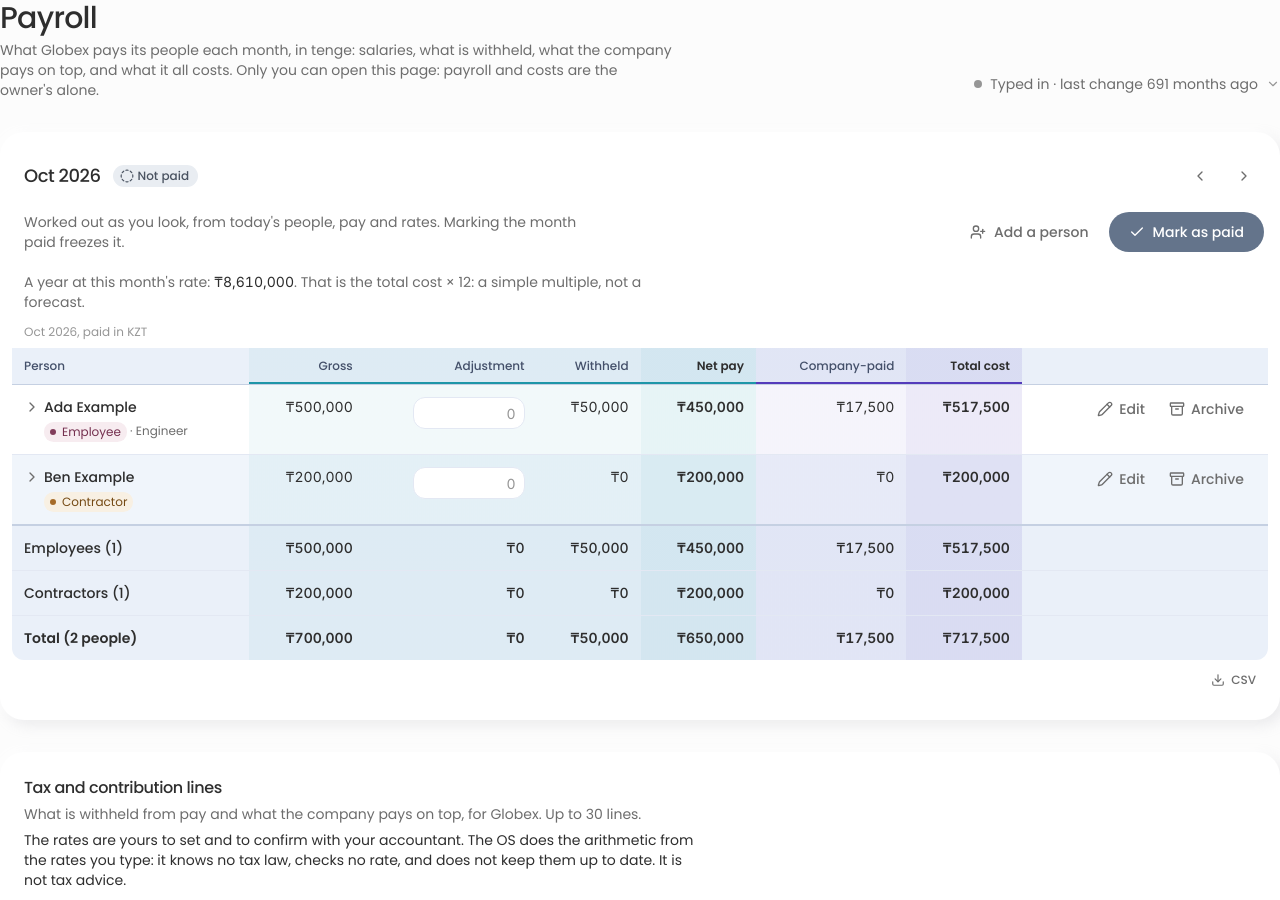
it: PayrollView: one table, live until paid › Mark as paid asks first, says what freezing means, and sends the date
The width and height of the screenshot is (1280, 900).
Click the button "Mark as paid" at point(1186, 232), box [1109,212,1264,252]
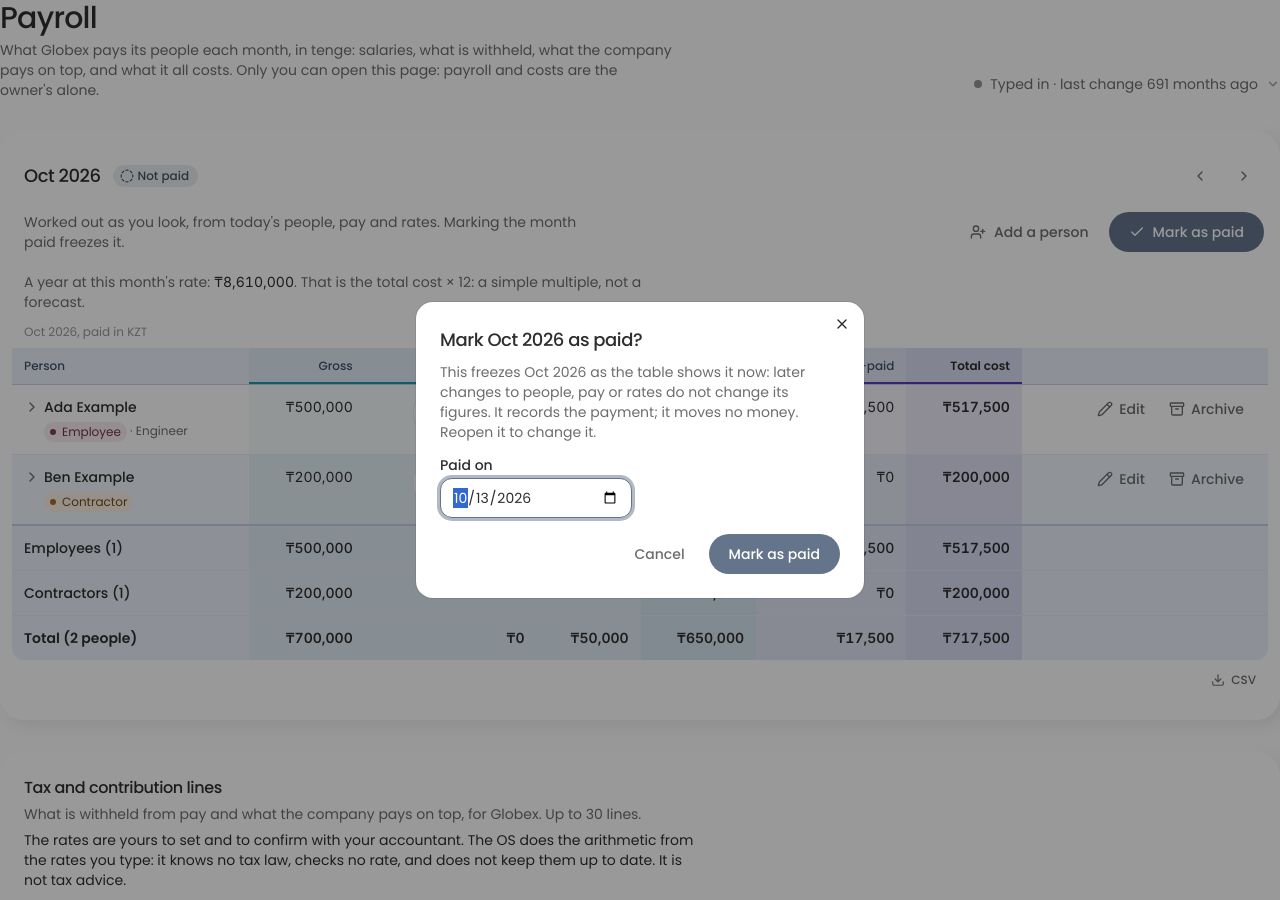
Now the text "freezes Oct 2026" is shown, box [440,362,840,442]
Now the text "later changes to people, pay or rates do not change" is shown, box [440,362,805,442]
Click the button "Cancel" at point(660, 554), box [618,534,701,574]
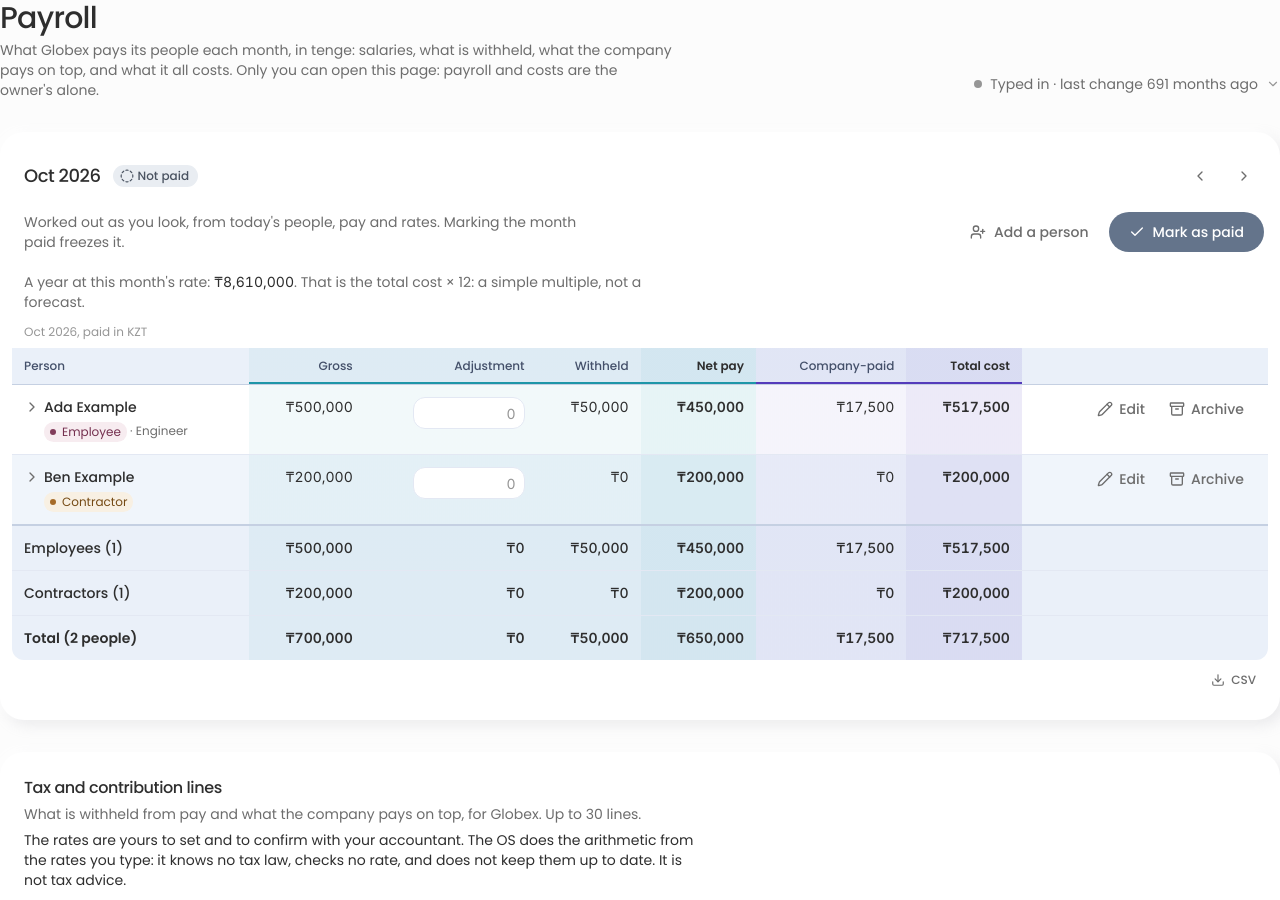
Now the dialog is gone
Click the button "Mark as paid" at point(1186, 232), box [1109,212,1264,252]
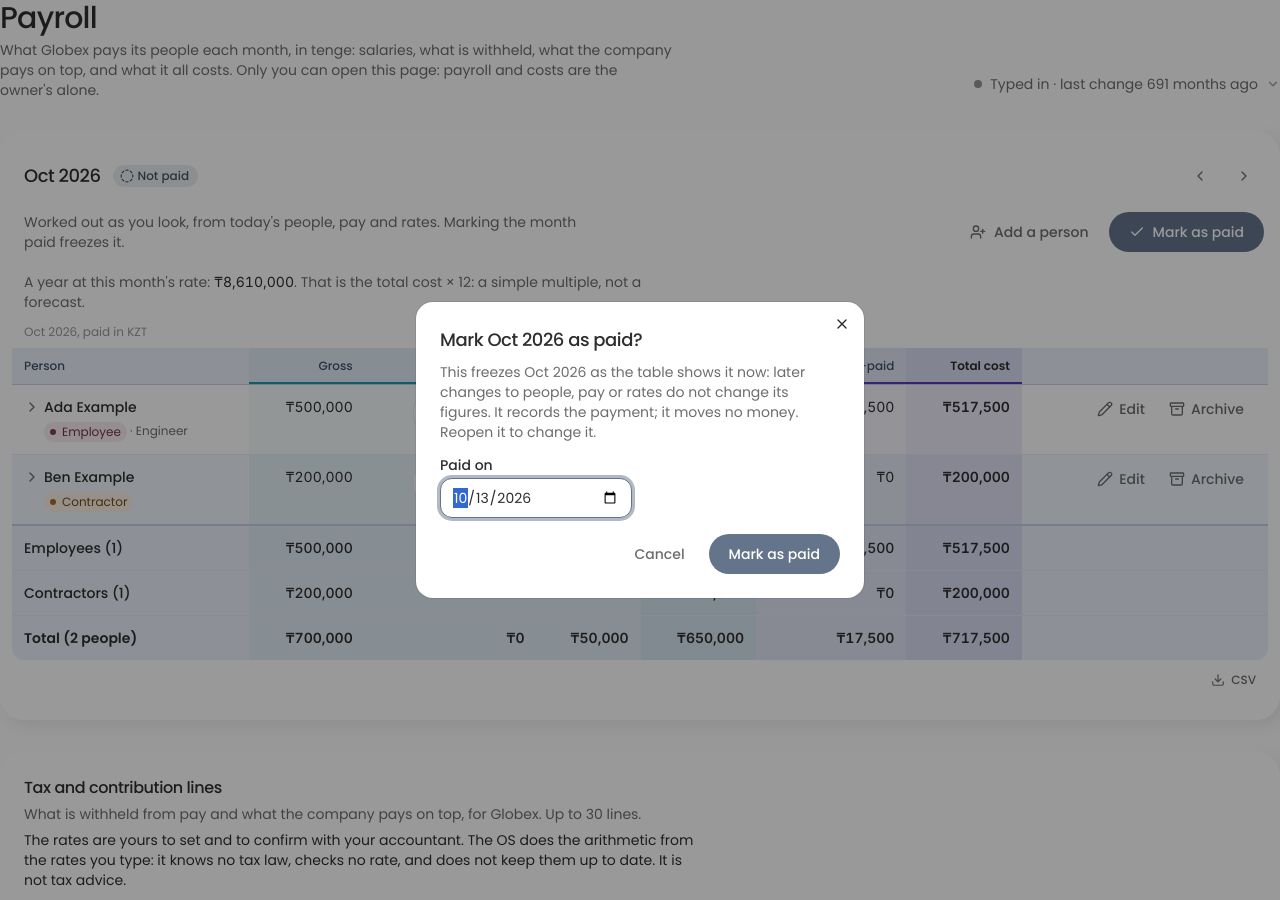
Now the date field labelled "Paid on" holds "2026-10-13"
Type "2026-10-05" into the date field labelled "Paid on" at point(536, 498), box [440,478,632,518]
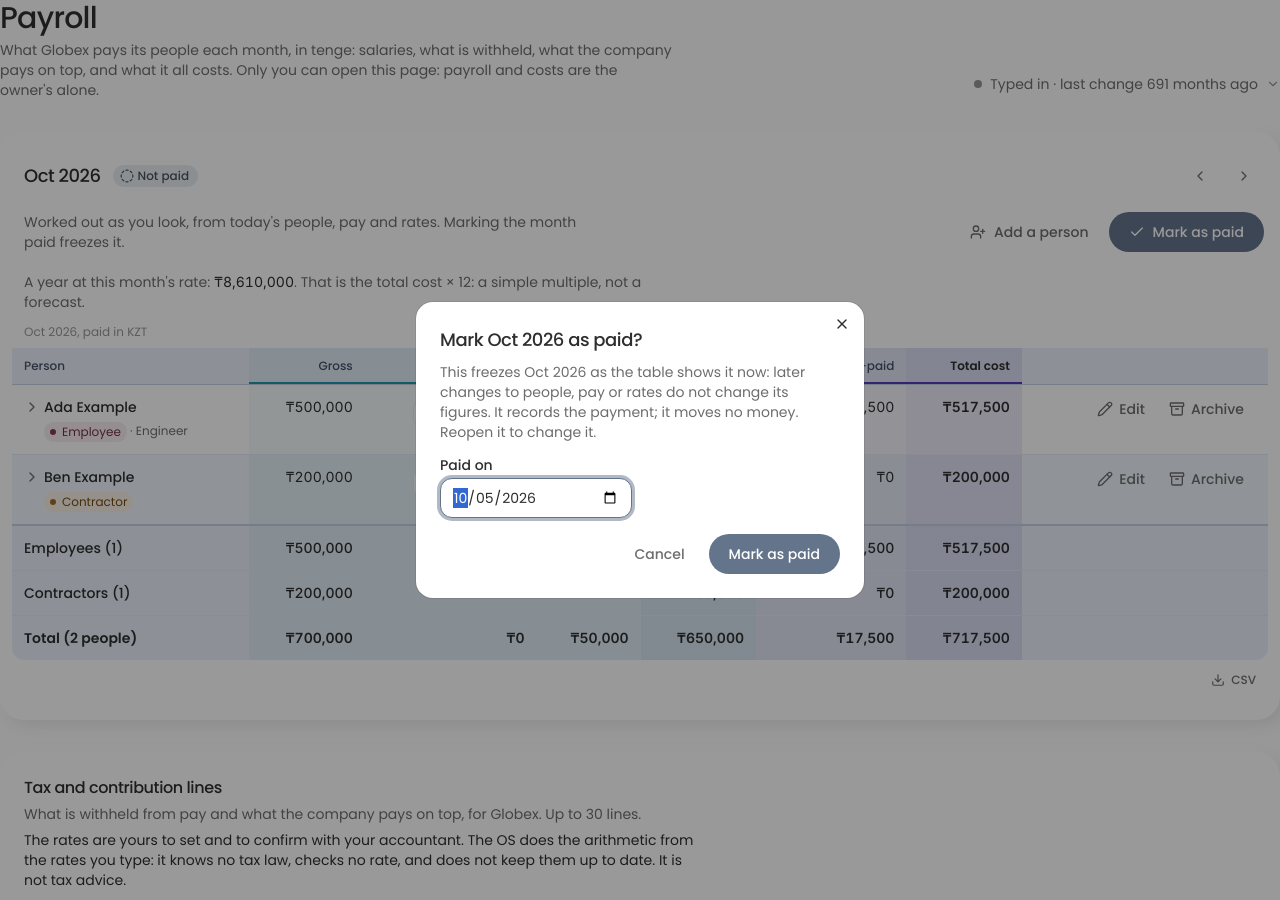
Click the button "Mark as paid" at point(774, 554), box [709,534,840,574]
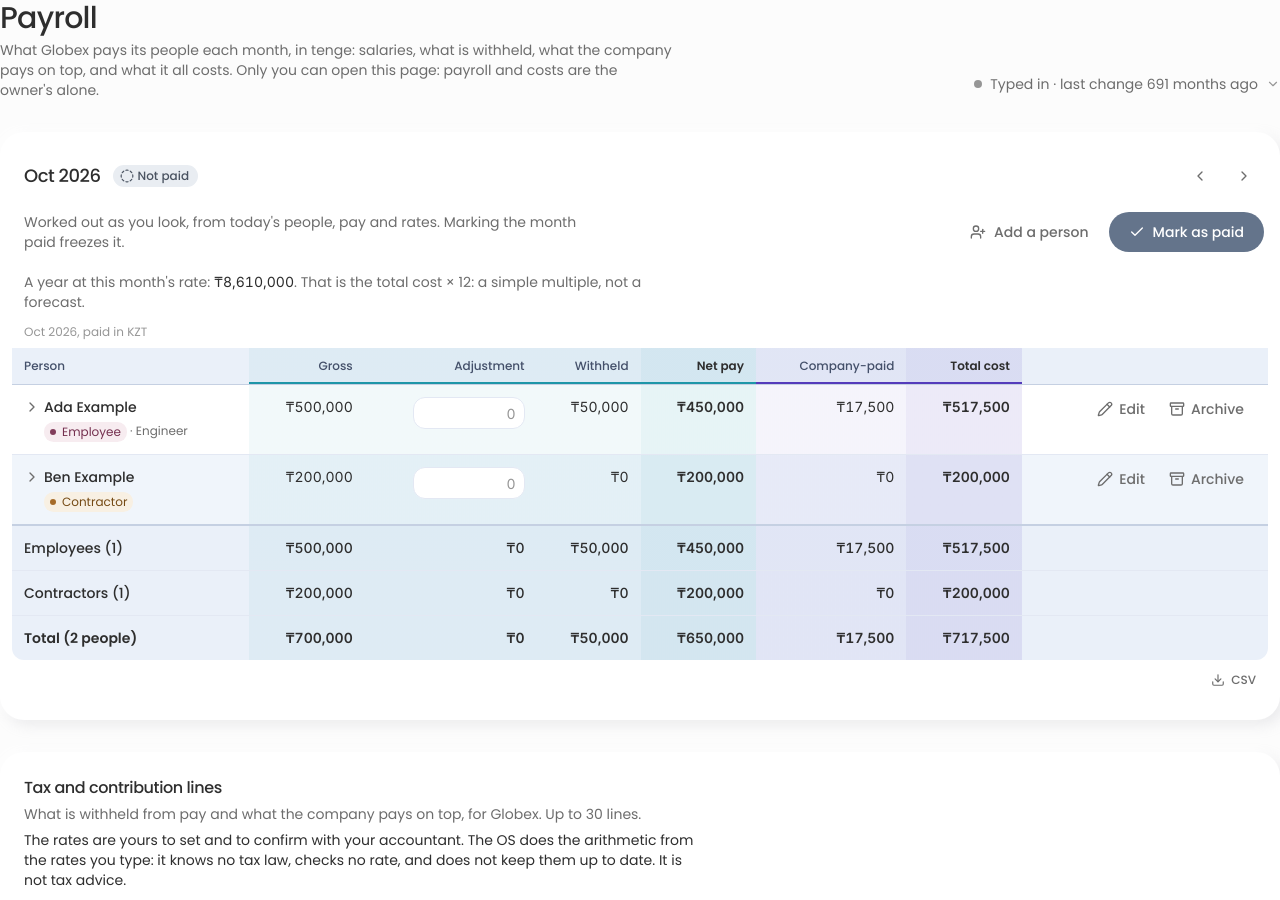
Now the dialog is gone
